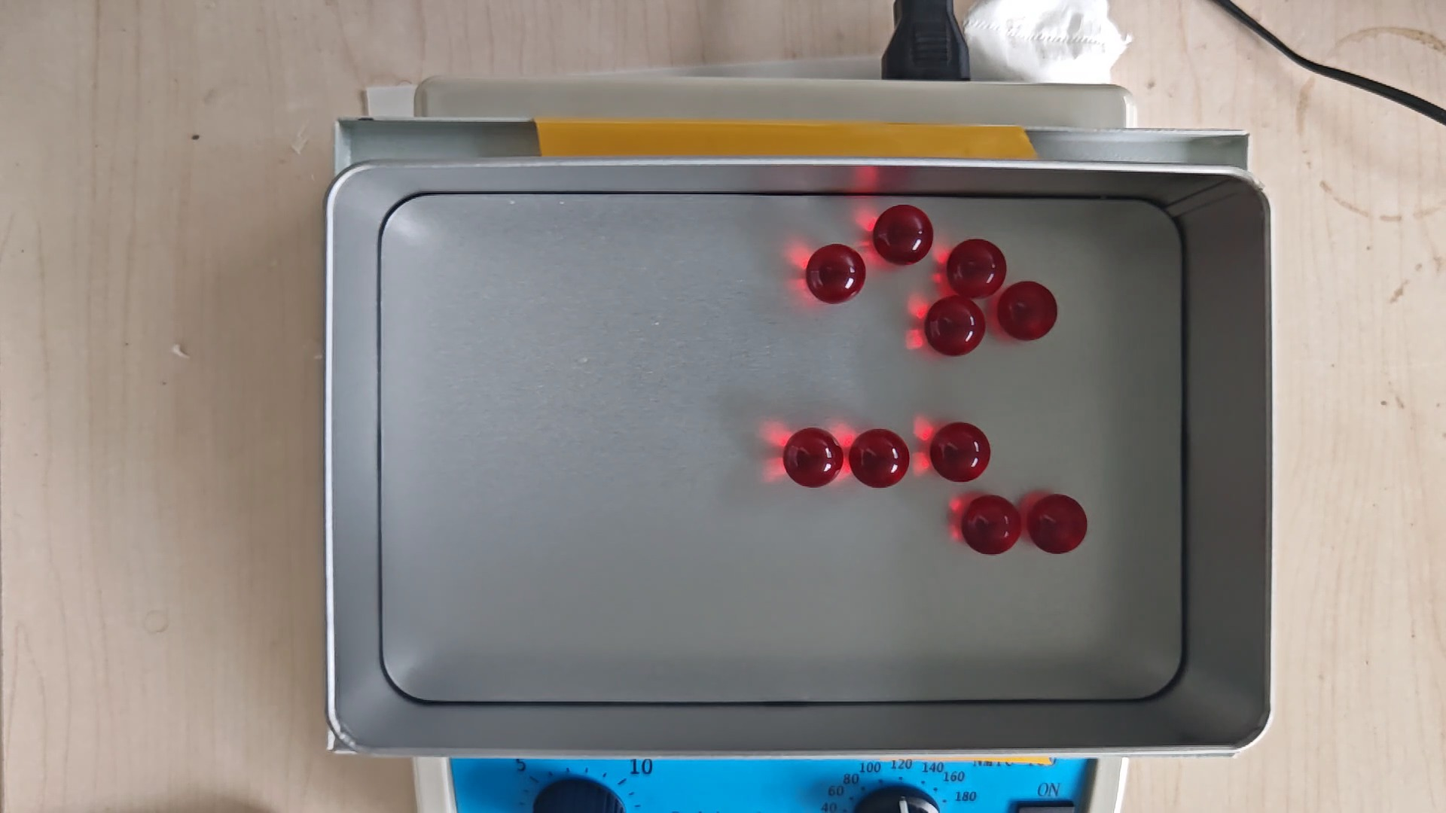ball: (998, 280, 1059, 342), (962, 494, 1022, 556), (849, 428, 909, 489), (931, 421, 990, 483), (806, 243, 865, 304), (784, 427, 843, 488), (925, 297, 984, 357), (874, 205, 933, 265), (1029, 494, 1087, 554), (948, 239, 1006, 297)
container: (379, 193, 1184, 703)
